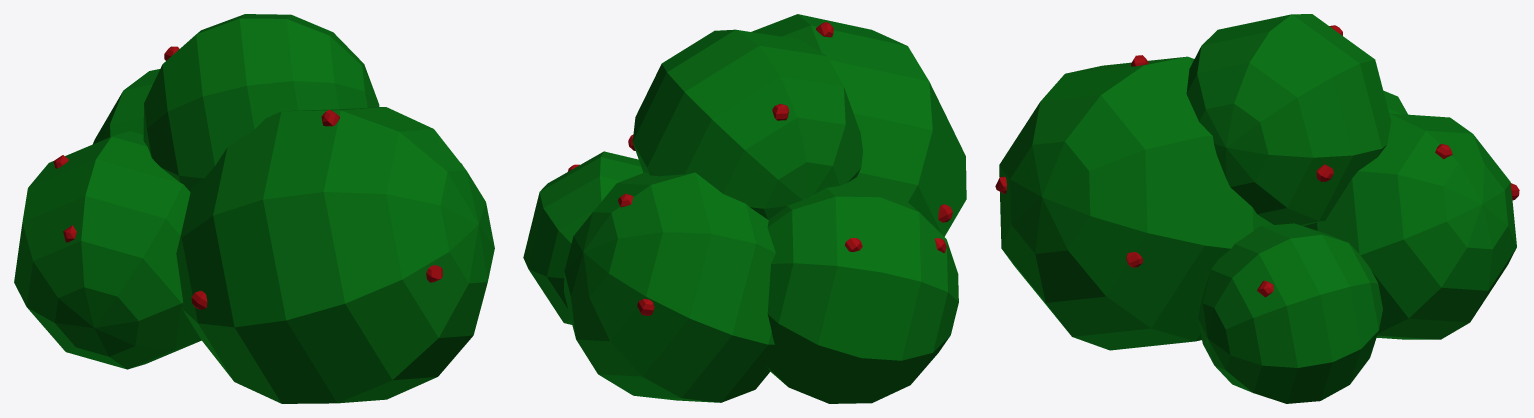
File: bush.fbx
The picture shows the model from 3 angles, left to right: view 1: azimuth 30°, elevation 25°; view 2: azimuth 150°, elevation 25°; view 3: azimuth 270°, elevation 25°; orthographic projection. The views are drawn at different scales.
Parts seen in each view (by area): view 1: Sphere.002, Sphere.004, Sphere, Sphere.001; view 2: Sphere.001, Sphere.004, Sphere, Sphere.002, Sphere.003; view 3: Sphere.002, Sphere, Sphere.001, Sphere.003.
Part boxes in pixels (box(x1,y1,x2,y2)): Sphere.002: box(176, 107, 494, 403); Sphere.004: box(14, 131, 201, 369); Sphere: box(143, 14, 379, 191); Sphere.001: box(93, 69, 159, 144); Sphere.001: box(564, 172, 775, 402); Sphere.004: box(765, 177, 958, 403); Sphere: box(632, 29, 862, 219); Sphere.002: box(751, 14, 966, 236); Sphere.003: box(523, 151, 643, 324); Sphere.002: box(999, 56, 1273, 350); Sphere: box(1186, 14, 1390, 226); Sphere.001: box(1304, 113, 1516, 339); Sphere.003: box(1198, 223, 1382, 403).
Bounding box in the file's own units: 334 × 248 × 368.
